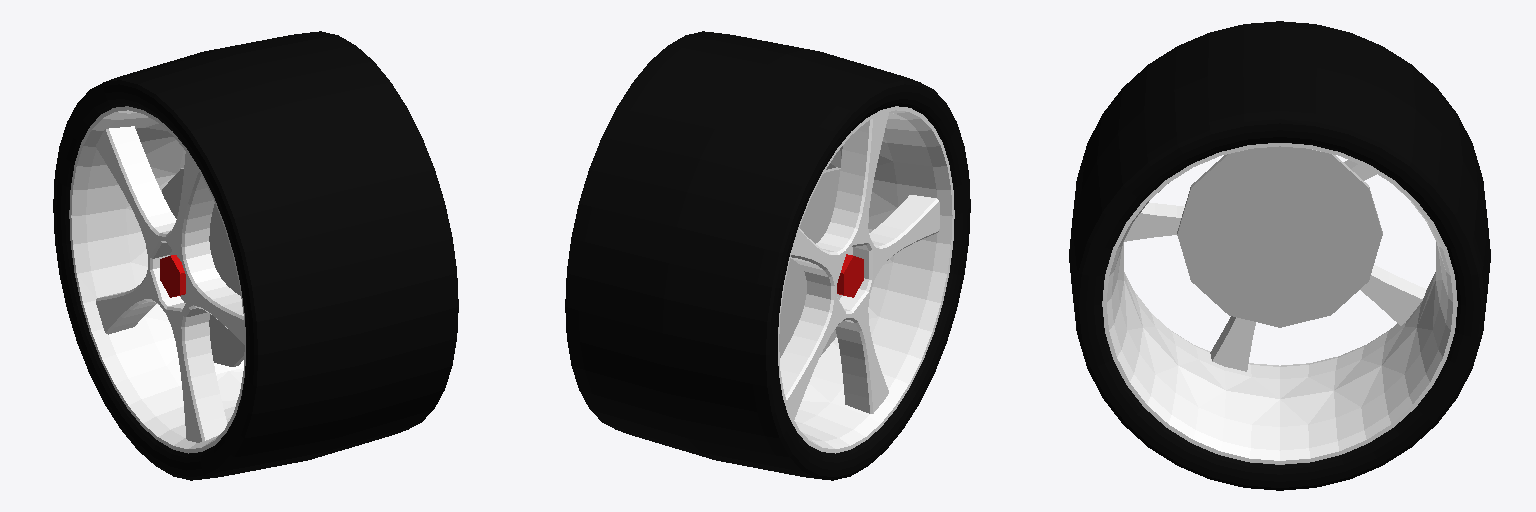
Rendered from wheel.obj.
3 renders of one model, left to right at view 1: azimuth 30°, elevation 25°; view 2: azimuth 150°, elevation 25°; view 3: azimuth 270°, elevation 25°, orthographic.
Parts seen in each view (by area): view 1: Cylinder06, Object02, Line02, Cylinder01, Wheel_Bolt; view 2: Cylinder06, Object02, Line02, Cylinder01, Wheel_Bolt; view 3: Cylinder06, Object02, Cylinder01, Line02.
Part boxes in pixels (bbox=[...]): Cylinder06: bbox=[53, 31, 458, 480]; Object02: bbox=[69, 106, 245, 453]; Line02: bbox=[96, 126, 244, 442]; Cylinder01: bbox=[162, 168, 244, 366]; Wheel_Bolt: bbox=[160, 255, 185, 297]; Cylinder06: bbox=[565, 31, 970, 480]; Object02: bbox=[778, 106, 954, 453]; Line02: bbox=[780, 112, 939, 419]; Cylinder01: bbox=[779, 167, 840, 357]; Wheel_Bolt: bbox=[837, 254, 863, 297]; Cylinder06: bbox=[1069, 21, 1490, 490]; Object02: bbox=[1102, 143, 1457, 464]; Cylinder01: bbox=[1177, 146, 1382, 327]; Line02: bbox=[1124, 160, 1426, 371].
Size of the model in its own units: 1.77 by 3.14 by 3.14.